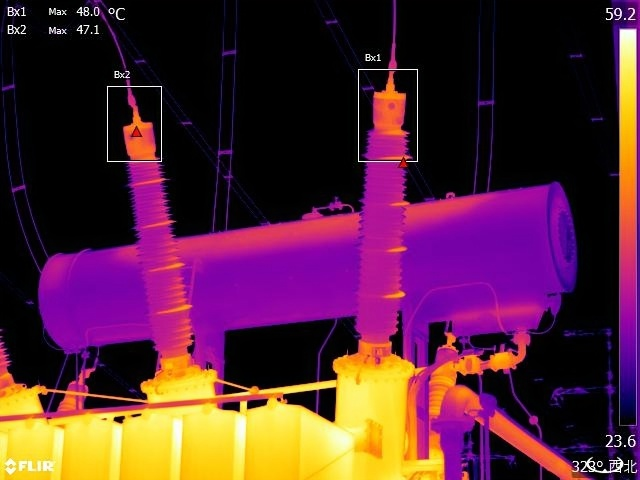oil conservator: (29, 158, 586, 372)
transformer: (1, 393, 449, 480)
tube: (334, 66, 425, 392), (120, 102, 207, 394), (414, 337, 461, 452)
